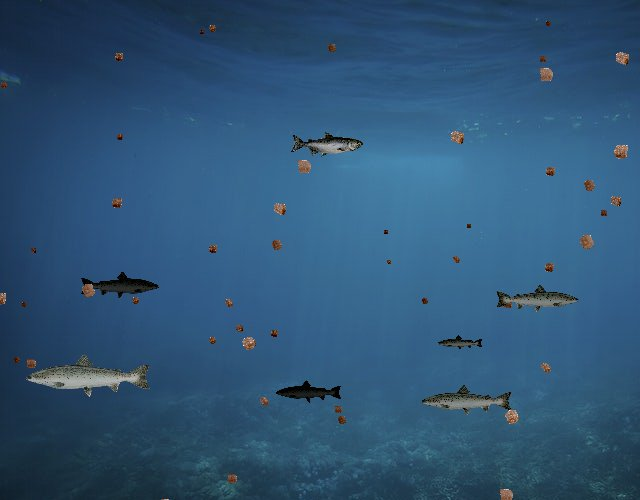Fish: (24, 352, 153, 398), (420, 383, 514, 417), (494, 283, 580, 314), (80, 271, 161, 300), (291, 132, 364, 158), (275, 380, 343, 404), (438, 335, 485, 352)
Pellet: (606, 136, 636, 166), (234, 329, 262, 357), (266, 196, 293, 223), (542, 18, 555, 31), (27, 244, 39, 256)
